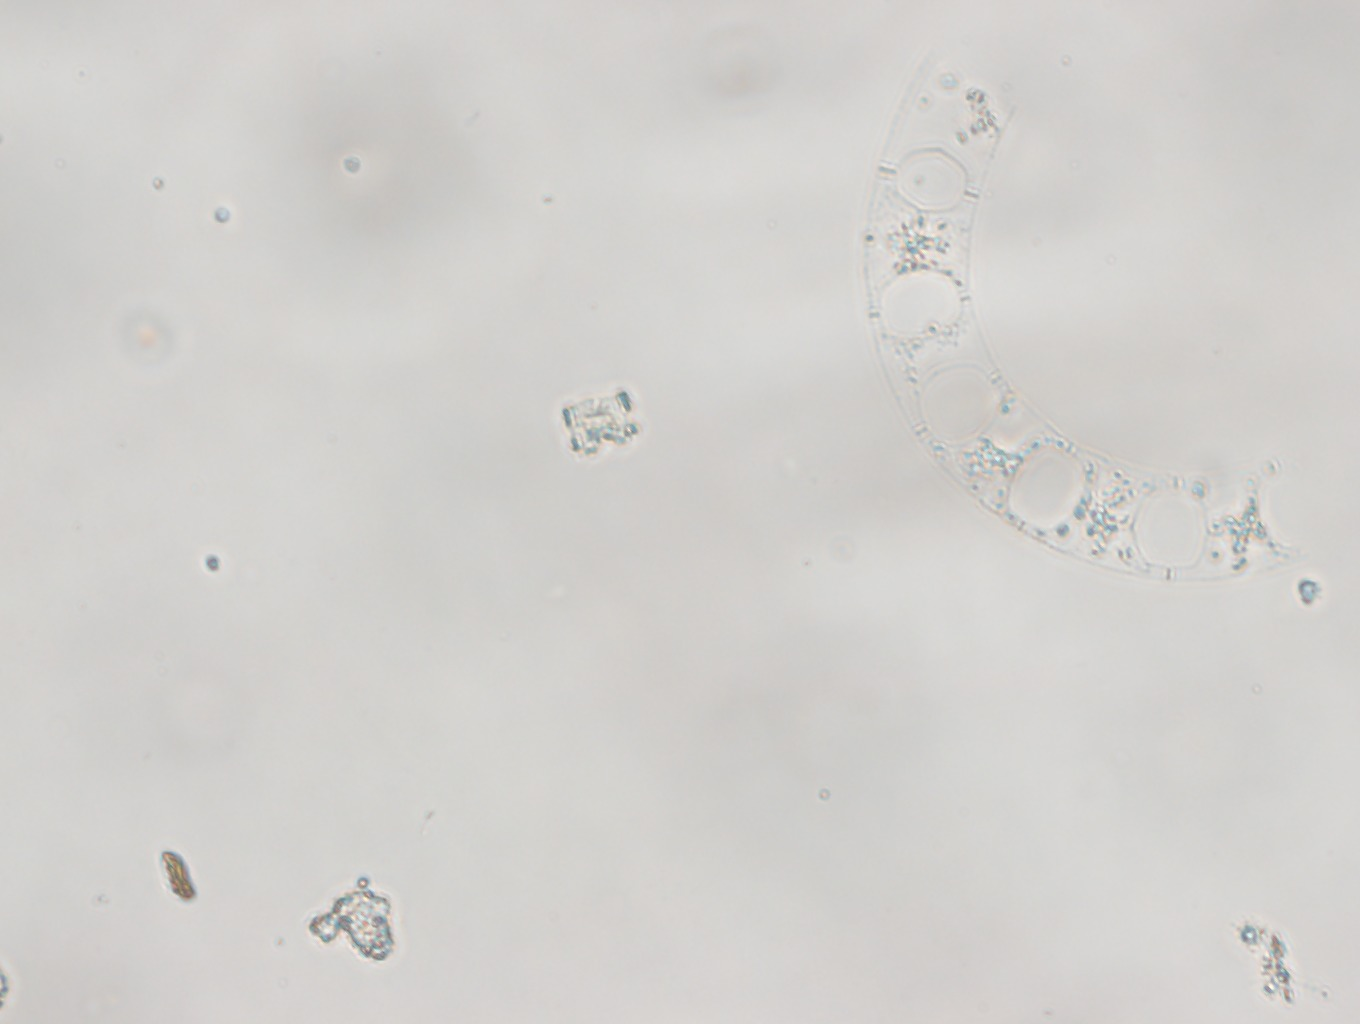eucampia: (862, 46, 1313, 579)
